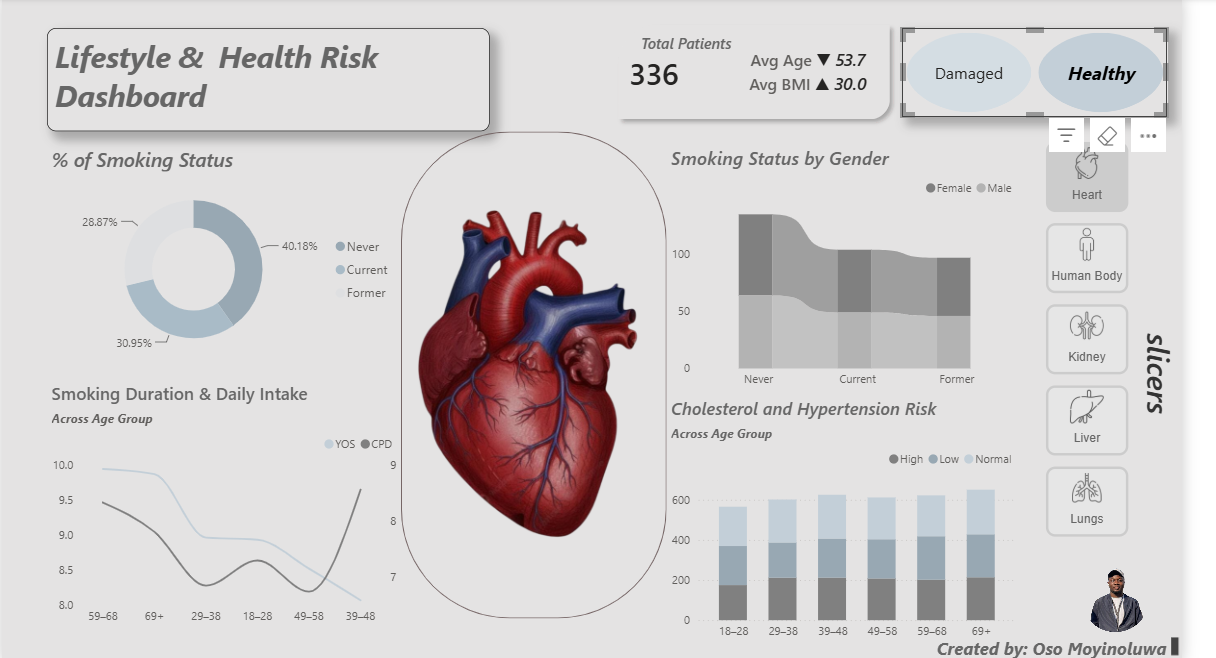

This screenshot's page, from the dashboard's own definition file:
{"tool":"powerbi","page":{"name":"General Overview","canvas":[1280,720],"ordinal":0},"visuals":[{"type":"cardVisual","fields":{"Data":["CountNonNull(health_dataset.Patient_ID)"]},"box":[640,0,352,160],"z":0},{"type":"textbox","box":[688,32,128,32],"z":1000},{"type":"advancedSlicerVisual","fields":{"Values":["condition.Organ_Condition"]},"box":[976,32,288,96],"z":2000},{"type":"ChicletSlicer1448559807354","fields":{"Category":["Organs.Organ"],"Image":["Organs.Icon_URL"]},"box":[1120,144,128,464],"z":3000},{"type":"donutChart","title":"% of Smoking Status","fields":{"Category":["health_dataset.Smoking_Status"],"Y":["CountNonNull(health_dataset.Smoking_Status)"]},"box":[48,160,384,240],"z":4000},{"type":"lineChart","title":"Smoking Duration & Daily Intake","fields":{"Category":["health_dataset.Age Group"],"Y":["Avg(health_dataset.Years_of_Smoking)"],"Y2":["Avg(health_dataset.Cigarettes_Per_Day)"]},"box":[48,416,384,272],"z":5000},{"type":"textbox","box":[48,32,480,112],"z":6000},{"type":"textbox","box":[1008,688,272,32],"z":7000},{"type":"image","box":[1136,592,144,128],"z":8000},{"type":"image","box":[400,176,336,464],"z":8001},{"type":"ribbonChart","title":"Smoking Status by Gender","fields":{"Category":["health_dataset.Smoking_Status"],"Y":["CountNonNull(health_dataset.Patient_ID)"],"Series":["health_dataset.Gender"]},"box":[720,160,384,272],"z":8002},{"type":"columnChart","title":"Cholesterol and Hypertension Risk","fields":{"Category":["health_dataset.Age Group"],"Y":["Avg(health_dataset.Cholesterol_Level)"],"Series":["health_dataset.BP_Risk"]},"box":[720,432,384,272],"z":8003},{"type":"shape","box":[432,144,288,528],"z":8004},{"type":"shape","box":[1232,256,48,304],"z":8008}]}

Visuals, with their boxes on the page's 1280x720 design canvas (x1, y1, x2, y2). These are canvas units, not pixel positions in the 1216x658 screenshot, which may show the page scaled, cropped or inside an application window:
cardVisual - CountNonNull(health_dataset.Patient_ID): x1=640 y1=0 x2=992 y2=160
textbox: x1=688 y1=32 x2=816 y2=64
advancedSlicerVisual - condition.Organ_Condition: x1=976 y1=32 x2=1264 y2=128
ChicletSlicer1448559807354 - Organs.Organ x Organs.Icon_URL: x1=1120 y1=144 x2=1248 y2=608
"% of Smoking Status" donutChart: x1=48 y1=160 x2=432 y2=400
"Smoking Duration & Daily Intake" lineChart: x1=48 y1=416 x2=432 y2=688
textbox: x1=48 y1=32 x2=528 y2=144
textbox: x1=1008 y1=688 x2=1280 y2=720
image: x1=1136 y1=592 x2=1280 y2=720
image: x1=400 y1=176 x2=736 y2=640
"Smoking Status by Gender" ribbonChart: x1=720 y1=160 x2=1104 y2=432
"Cholesterol and Hypertension Risk" columnChart: x1=720 y1=432 x2=1104 y2=704
shape: x1=432 y1=144 x2=720 y2=672
shape: x1=1232 y1=256 x2=1280 y2=560
